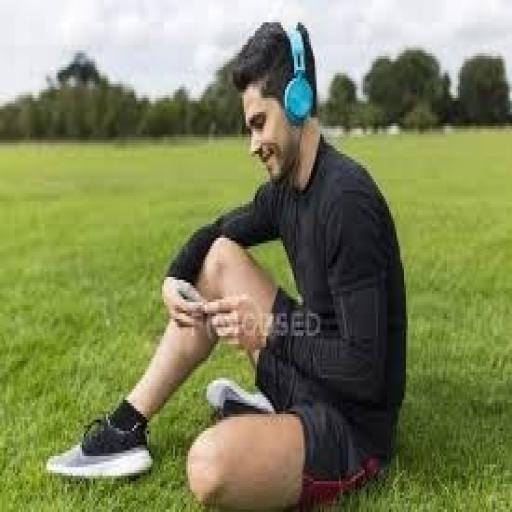listening_to_music: (42, 17, 410, 509)
